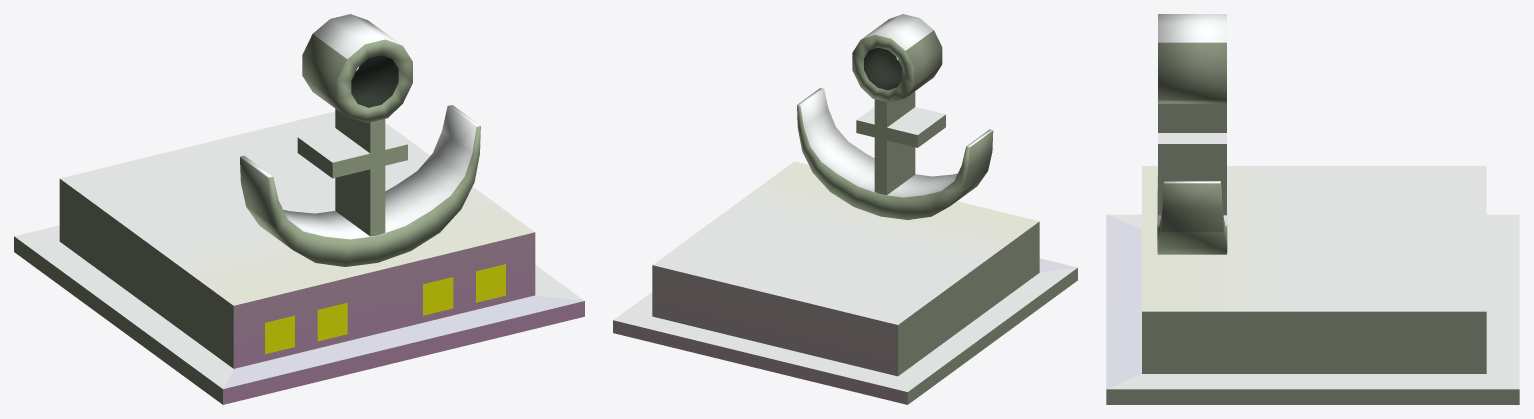
The model's file is Port.JadeSun.Snow.glb.
3 views of the same model, side by side, from view 1: azimuth 30°, elevation 25°; view 2: azimuth 150°, elevation 25°; view 3: azimuth 270°, elevation 25° (orthographic). The views are drawn at different scales.
Visible parts, largest first — view 1: Port.JadeSun.Snow; view 2: Port.JadeSun.Snow; view 3: Port.JadeSun.Snow.
Part boxes in pixels (x1,y1,x2,y2): Port.JadeSun.Snow: [14, 14, 584, 404]; Port.JadeSun.Snow: [613, 14, 1077, 404]; Port.JadeSun.Snow: [1106, 14, 1519, 404].
Bounding box in the file's own units: 2.4 × 1.9 × 2.4.
Materials: 2 (1 with a texture image).
